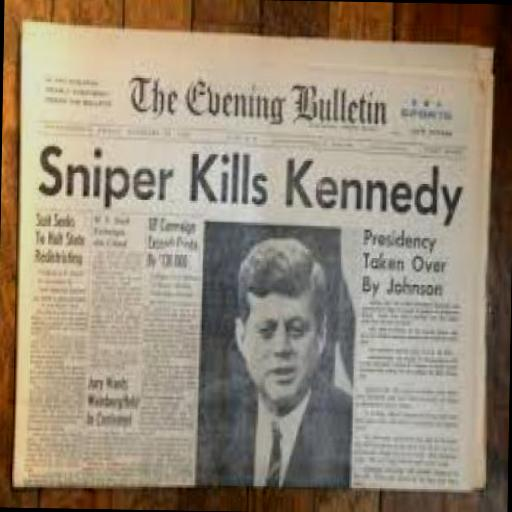paper: (10, 20, 492, 490)
